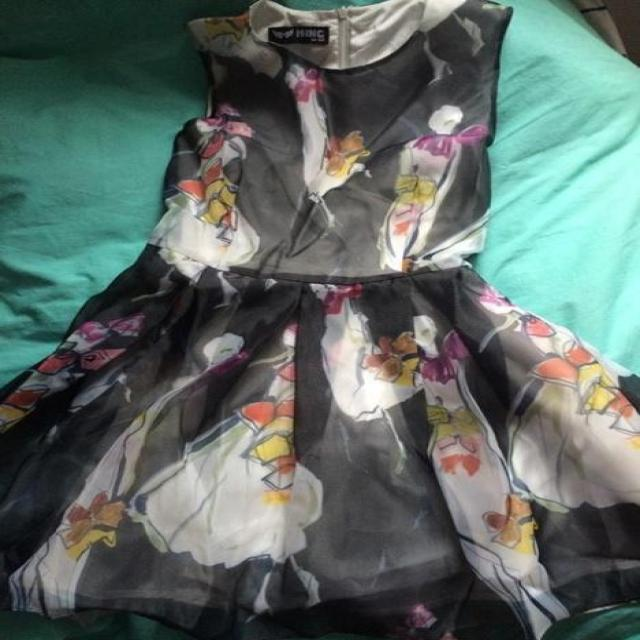vest dress: (1, 1, 635, 633)
